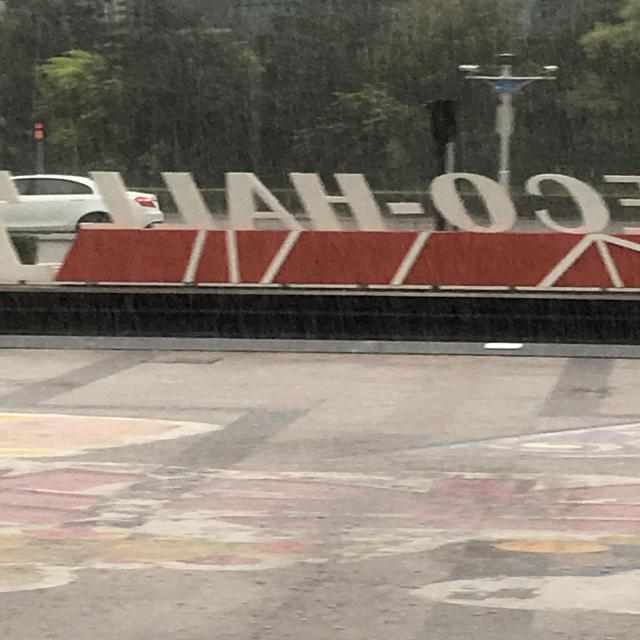car: (1, 174, 165, 229)
